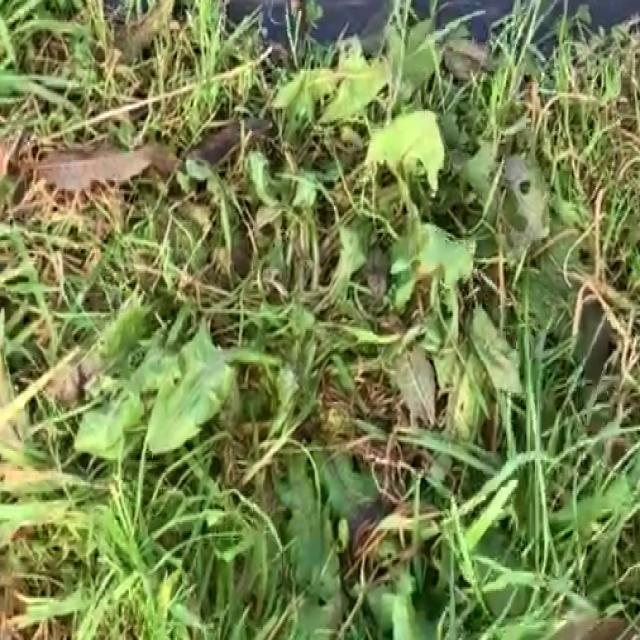organic waste: (256, 21, 474, 364), (90, 307, 386, 531)
